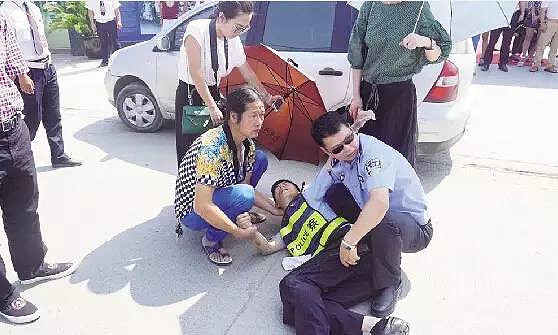10+: (1, 1, 556, 335)
down: (223, 175, 384, 335)
